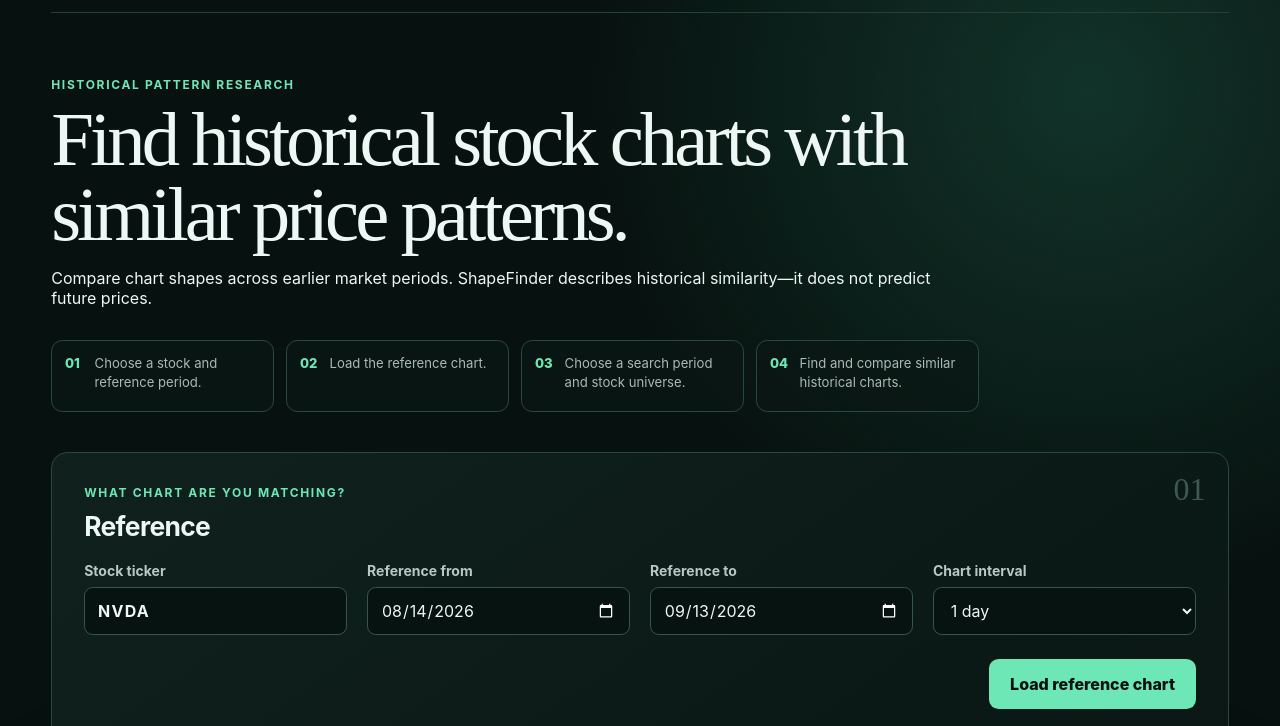
Scenario: reference workflow › maps reference PROVIDER_NOT_CONFIGURED safely
Type "2025-01-01" into the date field labelled "Reference from".
click(499, 611); type("2025-01-01")  # box [367,587,630,635]
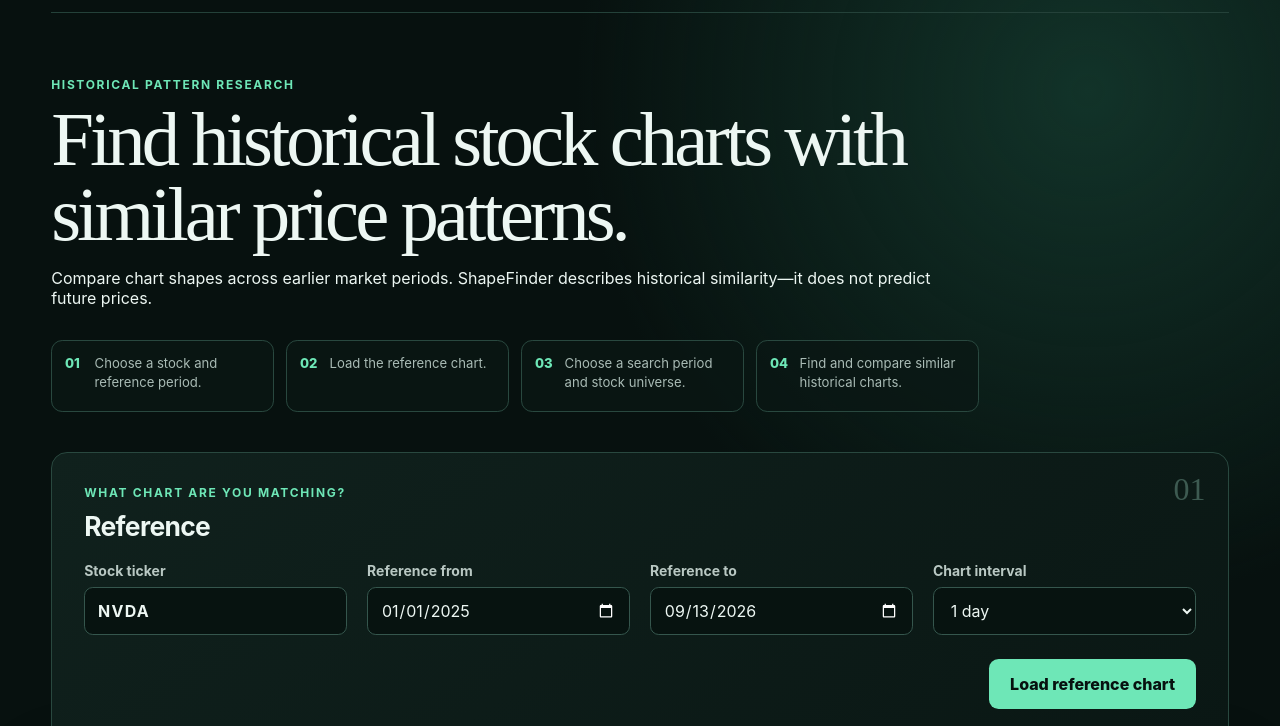
Type "2025-01-04" into the date field labelled "Reference to".
click(781, 611); type("2025-01-04")  # box [650,587,913,635]
(page scrolled)
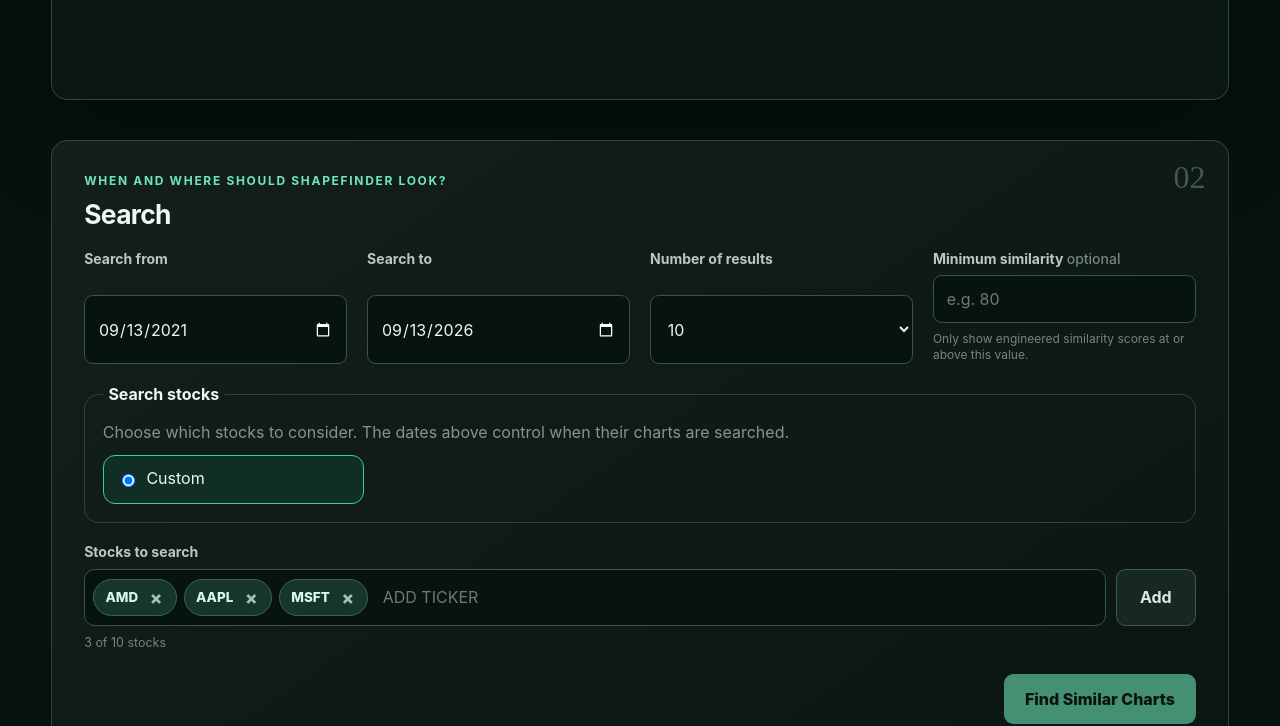
Type "2020-01-01" into the date field labelled "Search from".
click(216, 330); type("2020-01-01")  # box [84,296,347,364]
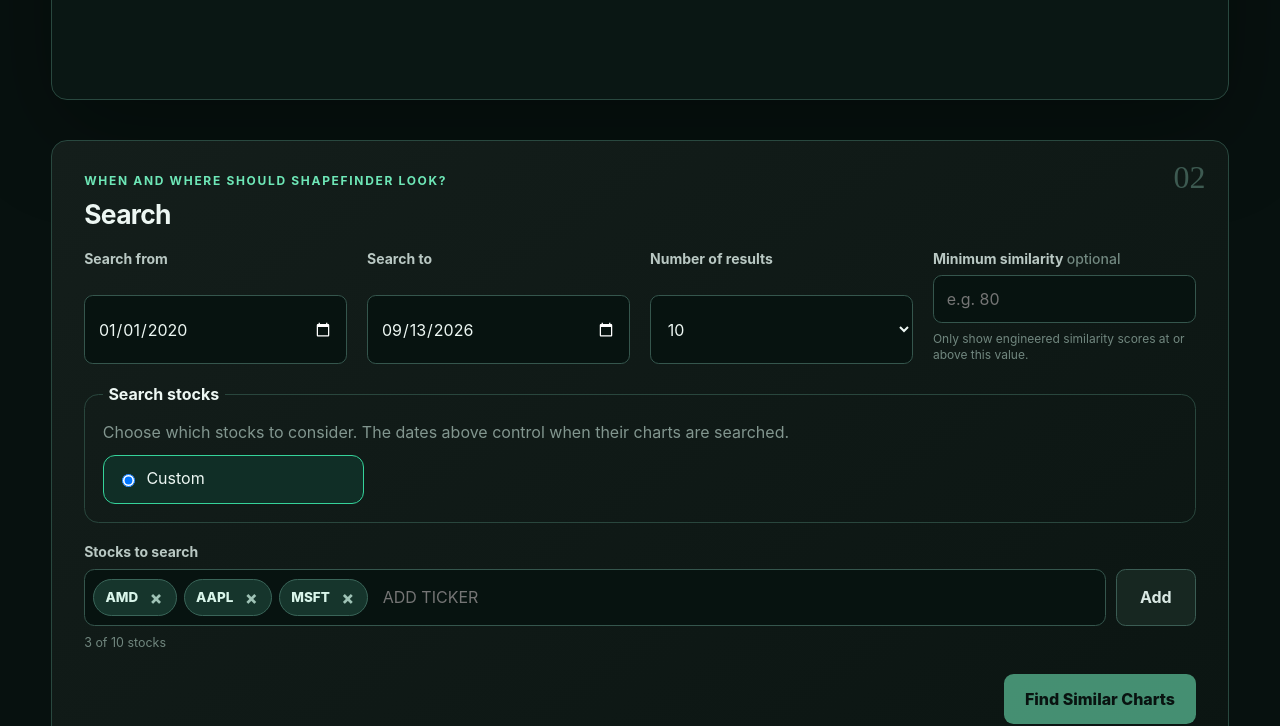
Type "2025-01-04" into the date field labelled "Search to".
click(499, 330); type("2025-01-04")  # box [367,296,630,364]
(page scrolled)
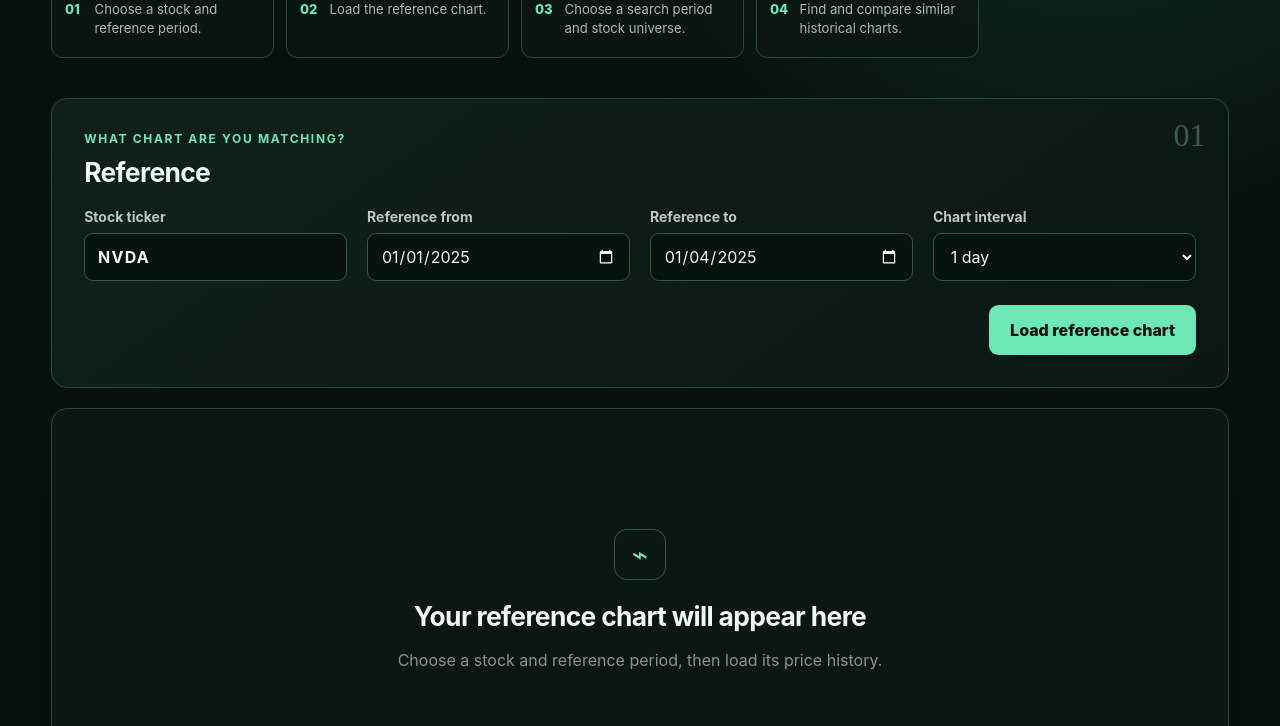
Click the button "Load reference chart".
click(1093, 330)  # box [989,305,1196,355]
(page scrolled)
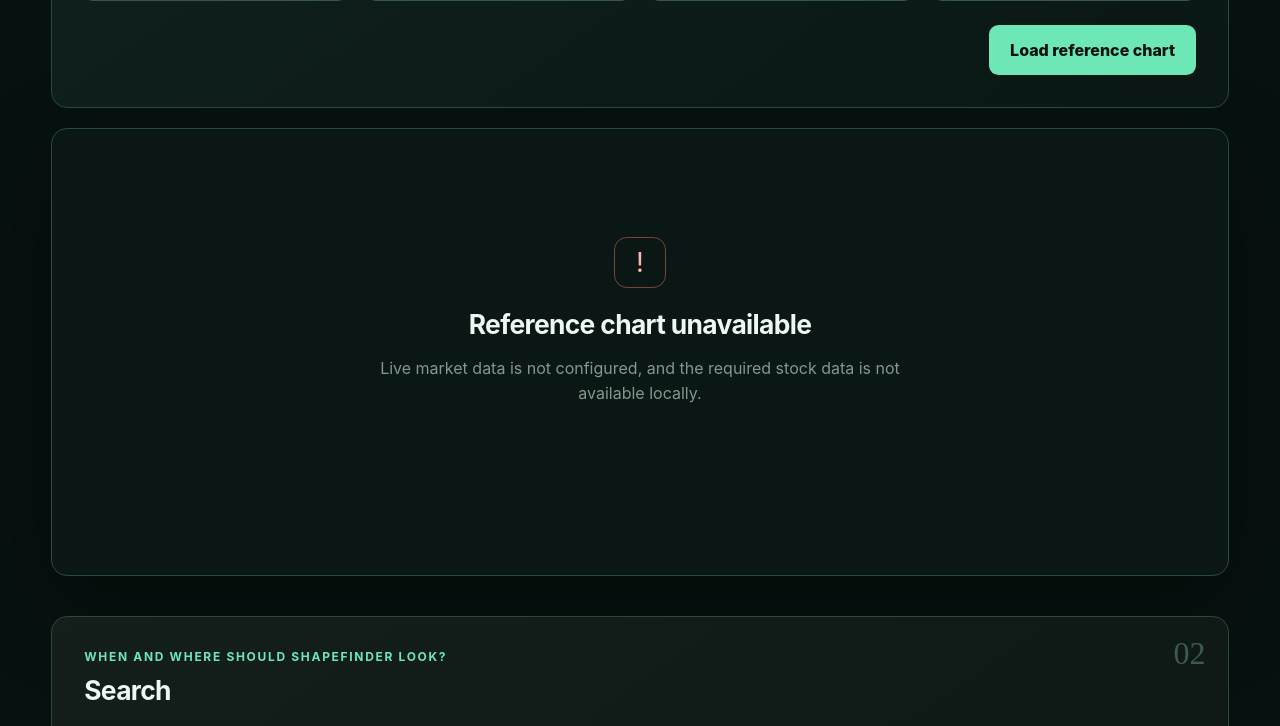
Expected: the message shows "required stock data is not available locally", [380,358,900,403]
